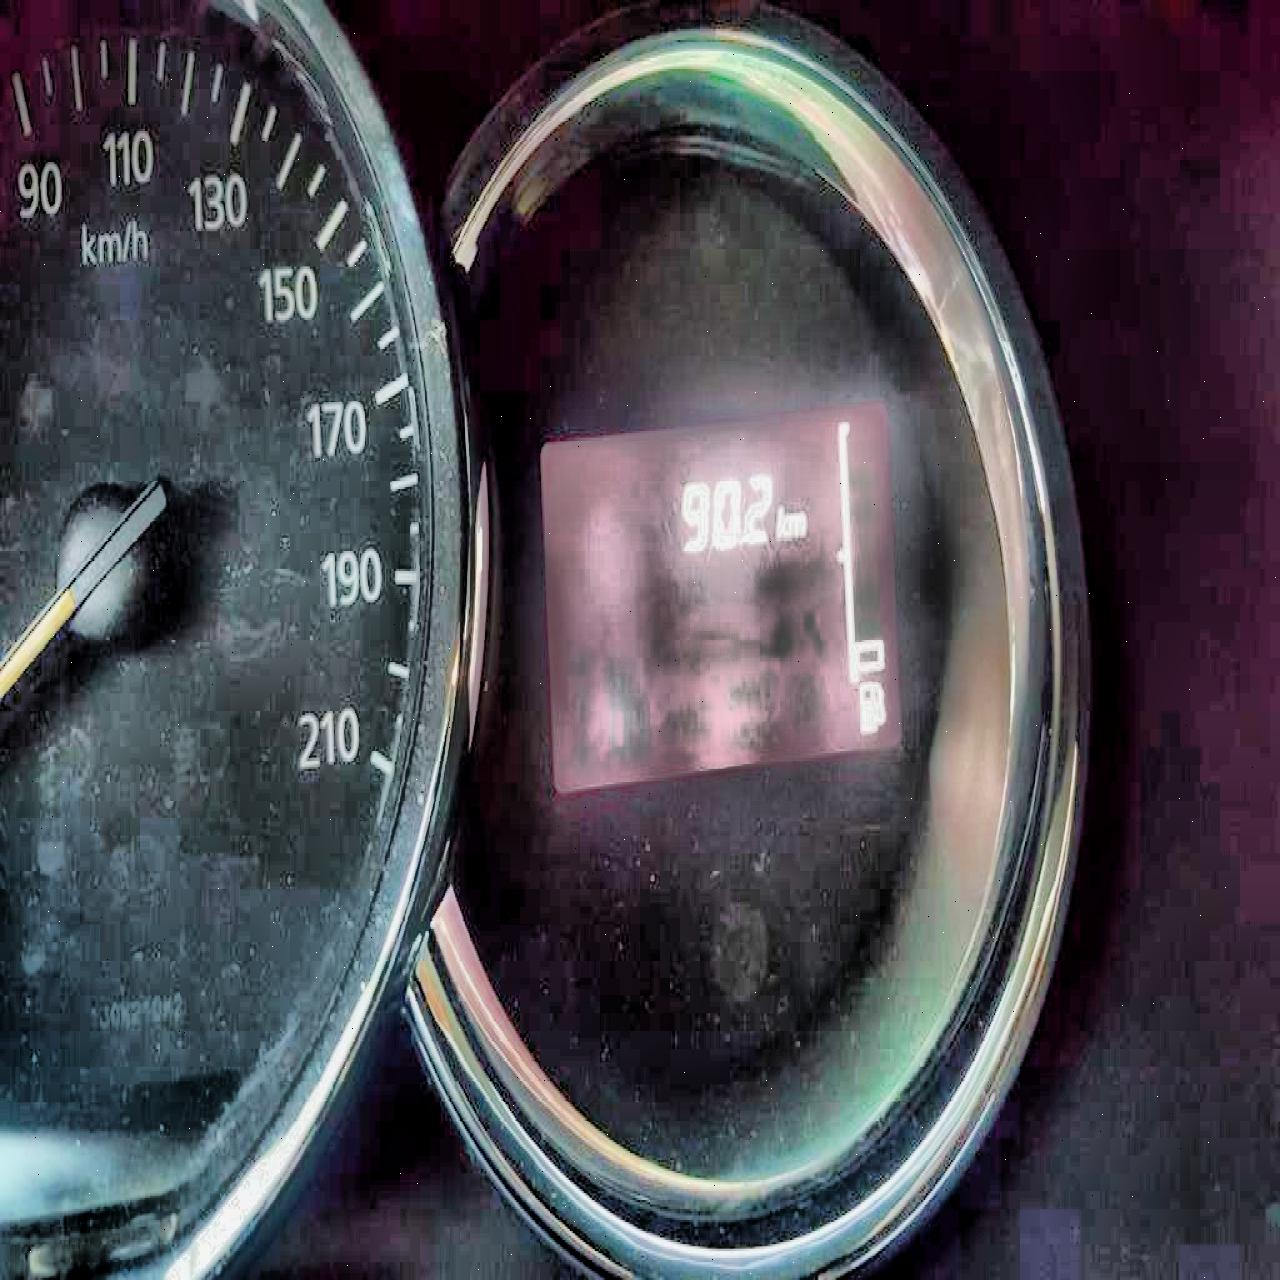-: (737, 529, 742, 544)
0: (710, 475, 738, 549)
2: (742, 471, 772, 545)
9: (678, 478, 708, 551)
X: (774, 504, 788, 539), (788, 509, 805, 536)
odometer: (535, 393, 907, 798)
